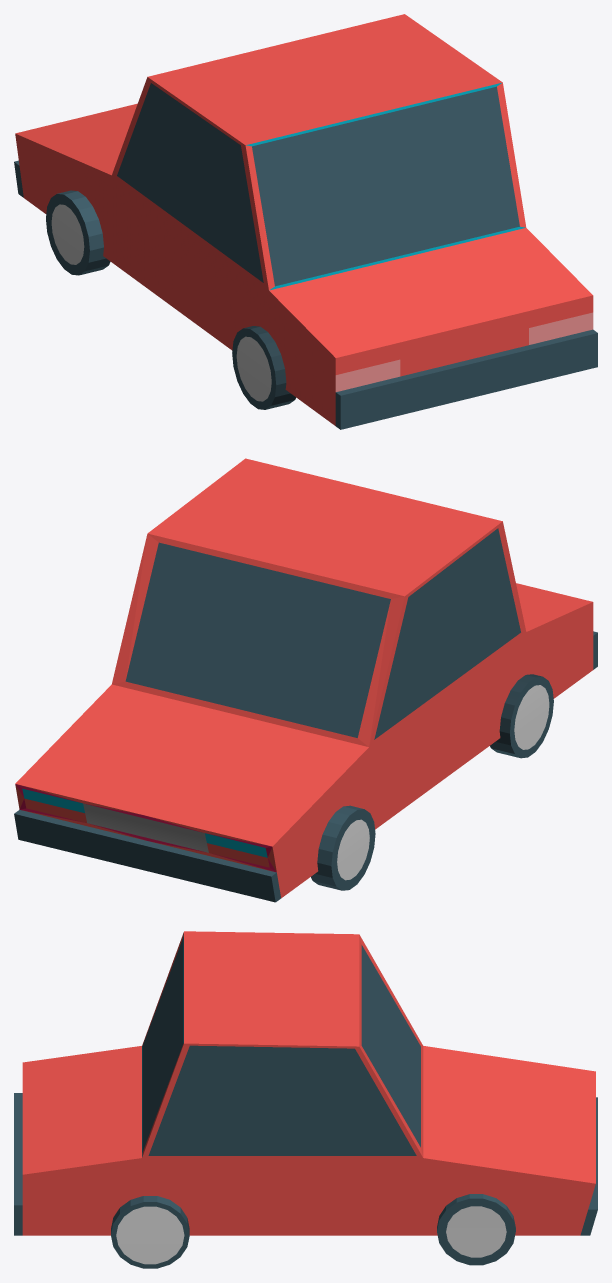
File: Car1Red1x1.fbx
3 renders of one model, top to bottom at view 1: azimuth 30°, elevation 25°; view 2: azimuth 150°, elevation 25°; view 3: azimuth 270°, elevation 25°, orthographic. The views are drawn at different scales.
Parts seen in each view (by area): view 1: Car_04_4; view 2: Car_04_4; view 3: Car_04_4.
Part boxes in pixels (bbox=[...]): Car_04_4: bbox=[14, 14, 597, 429]; Car_04_4: bbox=[14, 458, 597, 902]; Car_04_4: bbox=[14, 931, 597, 1268].
Size of the model in its own units: 0.4944 by 0.4046 by 0.9785.
Materials: 1 (1 with a texture image).
